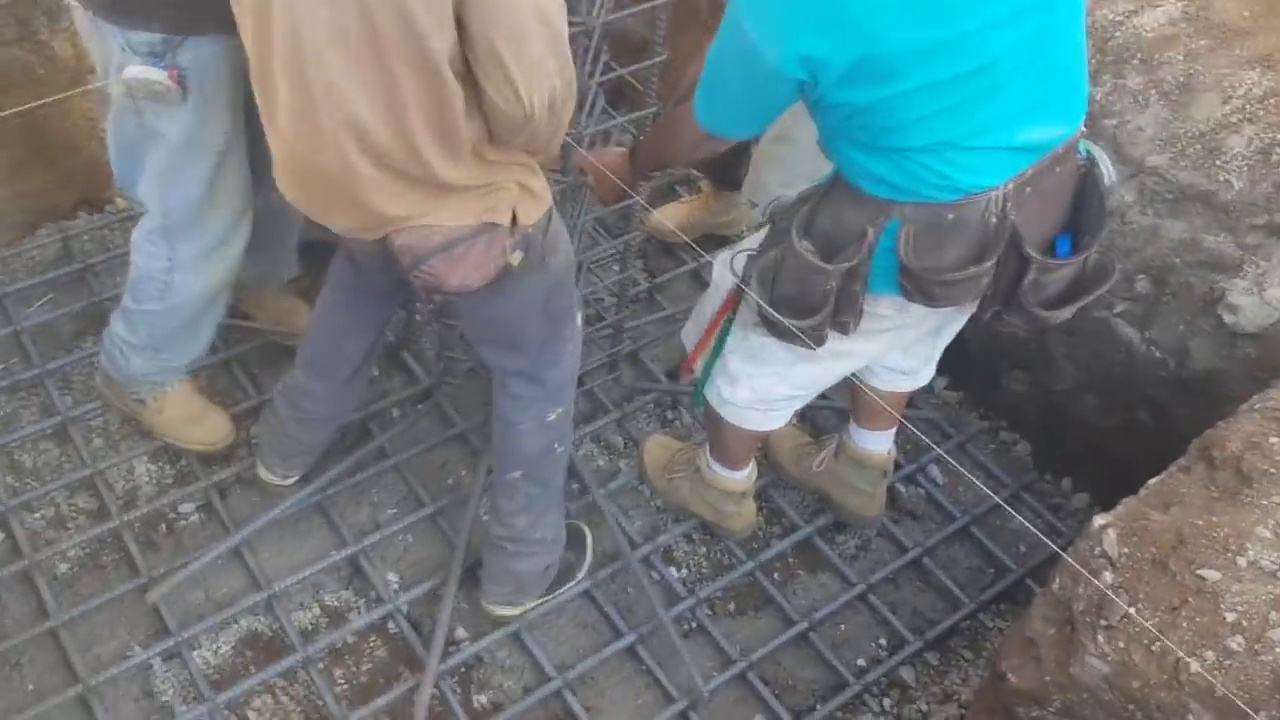person: (637, 0, 1080, 544), (221, 0, 598, 620), (52, 0, 256, 459), (587, 18, 816, 273)
